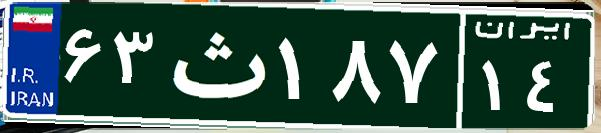1: (273, 28, 330, 110), (475, 38, 525, 113)
3: (110, 28, 158, 105)
4: (525, 38, 570, 115)
6: (57, 26, 110, 107)
7: (385, 28, 445, 110)
8: (330, 28, 385, 110)
ث: (158, 15, 273, 115)
